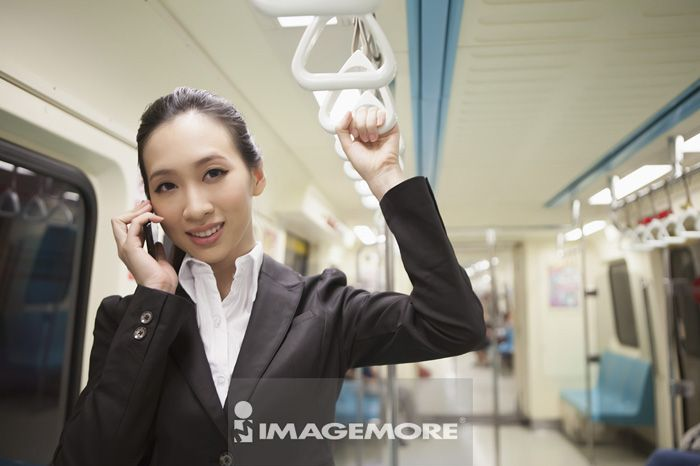phone: (138, 183, 161, 262)
talk: (106, 148, 236, 292)
